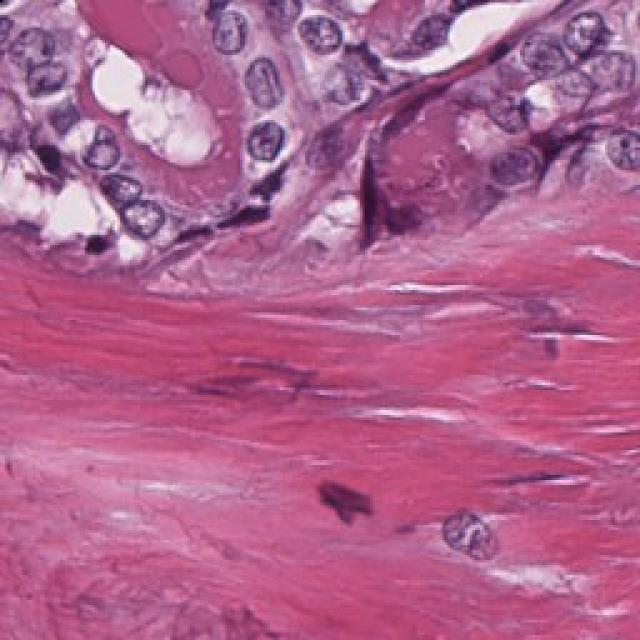abnormal: (544, 56, 608, 147), (500, 29, 576, 97), (86, 153, 168, 216), (533, 0, 617, 58), (191, 1, 260, 70), (68, 107, 137, 173), (241, 55, 298, 129), (101, 188, 168, 249), (0, 52, 80, 99), (0, 10, 72, 55)
